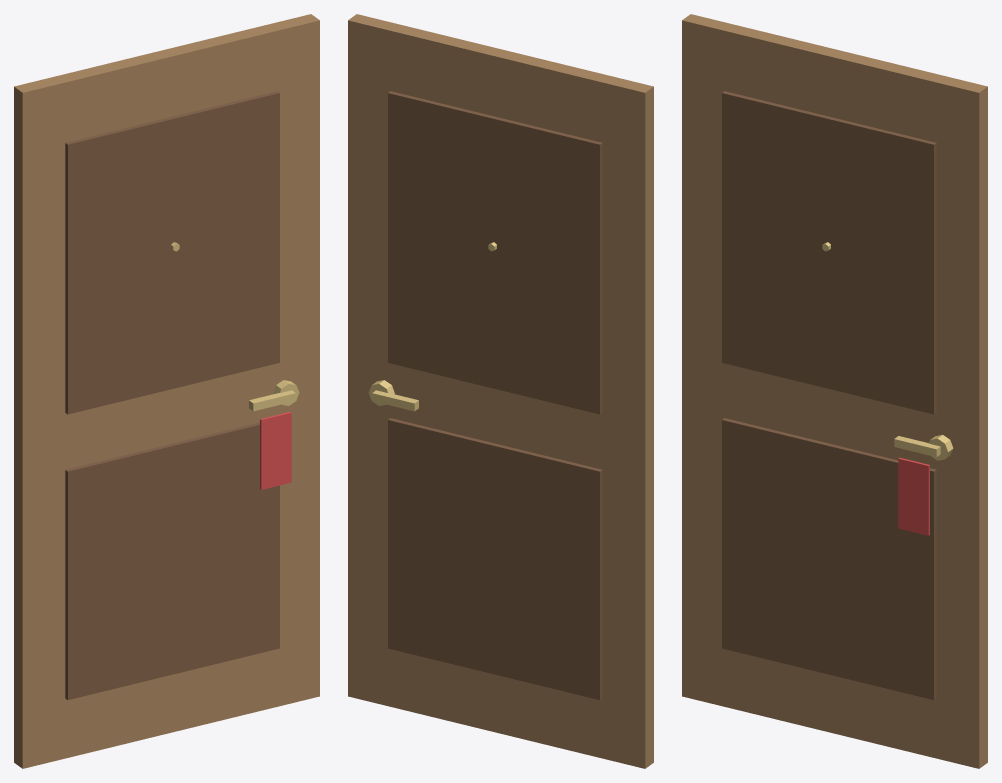
File: HJ_HojaPuerta.fbx
3 views of the same model, side by side, from view 1: azimuth 30°, elevation 25°; view 2: azimuth 150°, elevation 25°; view 3: azimuth 330°, elevation 25° (orthographic).
Visible parts, largest first — view 1: HJ_HojaPuerta; view 2: HJ_HojaPuerta; view 3: HJ_HojaPuerta.
Boxes of the visible parts, x1,y1,x2,y2 form: HJ_HojaPuerta: (14, 14, 319, 768); HJ_HojaPuerta: (348, 14, 653, 768); HJ_HojaPuerta: (682, 14, 987, 768).
Size of the model in its own units: 0.98 by 2.13 by 0.1665.
